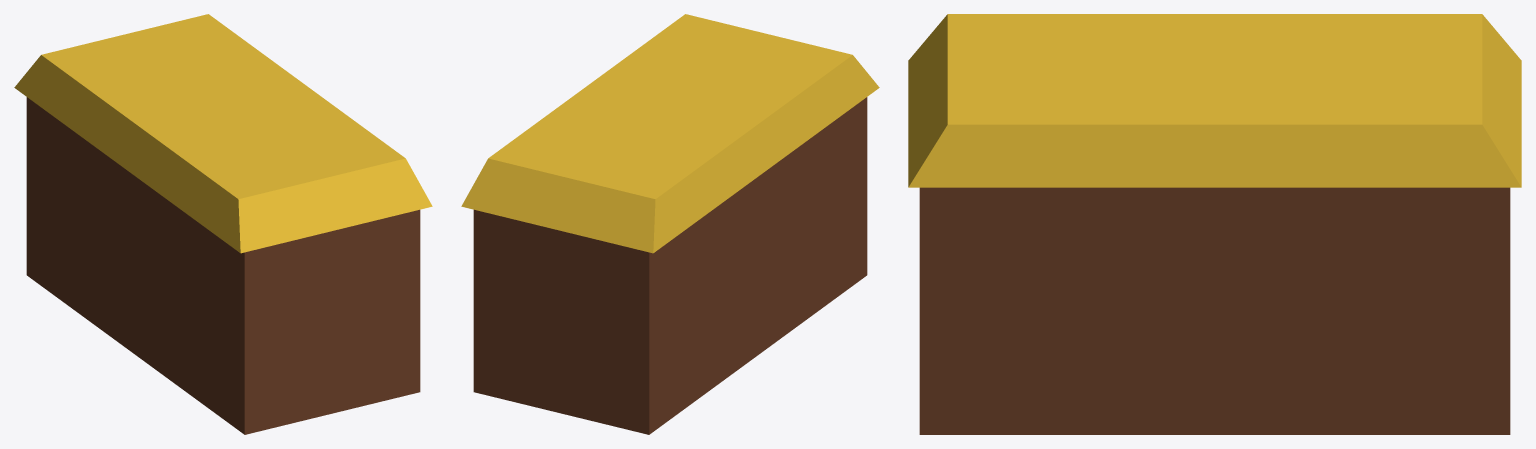
Rendered from chest.glb.
The picture shows the model from 3 angles, left to right: view 1: azimuth 30°, elevation 25°; view 2: azimuth 150°, elevation 25°; view 3: azimuth 270°, elevation 25°; orthographic projection. The views are drawn at different scales.
Visible parts, largest first — view 1: Cube.001, Plane; view 2: Cube.001, Plane; view 3: Cube.001, Plane.
Boxes of the visible parts, x1=… form: Cube.001: x1=26, y1=97, x2=420, y2=434; Plane: x1=14, y1=14, x2=432, y2=253; Cube.001: x1=473, y1=97, x2=867, y2=434; Plane: x1=461, y1=14, x2=879, y2=253; Cube.001: x1=919, y1=187, x2=1510, y2=434; Plane: x1=908, y1=14, x2=1521, y2=187.
Size of the model in its own units: 2.19 by 2.48 by 4.47.
